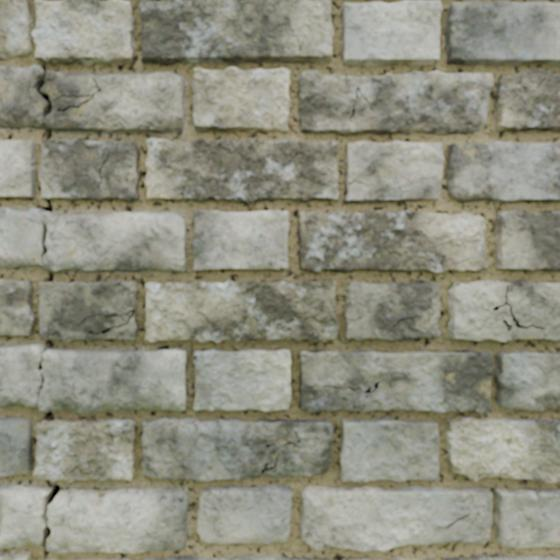brick: (140, 0, 333, 65), (300, 486, 491, 551), (298, 71, 493, 134), (142, 416, 332, 480), (145, 138, 338, 201), (300, 350, 492, 413), (297, 210, 486, 272), (145, 281, 337, 342), (0, 0, 134, 64), (445, 417, 559, 482), (445, 1, 559, 65), (447, 280, 559, 340), (446, 142, 559, 201), (342, 0, 441, 65), (34, 419, 134, 482), (340, 417, 438, 481), (192, 67, 290, 131), (39, 139, 139, 201), (343, 141, 443, 203), (194, 349, 290, 411), (39, 281, 137, 340), (344, 281, 439, 340), (193, 211, 288, 269), (197, 485, 291, 543), (494, 210, 559, 270), (494, 71, 559, 130), (494, 351, 559, 410), (495, 488, 559, 547), (0, 141, 36, 197), (0, 280, 34, 336), (0, 418, 32, 476), (211, 555, 328, 559), (445, 555, 559, 559), (0, 550, 30, 559), (144, 556, 207, 559), (345, 557, 371, 559), (91, 558, 130, 559), (389, 558, 404, 559)
broken_brick: (0, 343, 186, 413), (0, 64, 184, 133), (0, 207, 186, 272), (48, 487, 188, 553), (0, 484, 49, 549), (43, 70, 96, 99)
crack: (34, 62, 102, 140), (2, 479, 60, 559), (260, 430, 318, 474), (76, 308, 135, 337), (36, 338, 52, 395), (38, 199, 53, 212), (43, 410, 52, 420), (47, 271, 54, 283), (183, 529, 186, 549), (402, 336, 414, 341), (193, 350, 198, 361)
